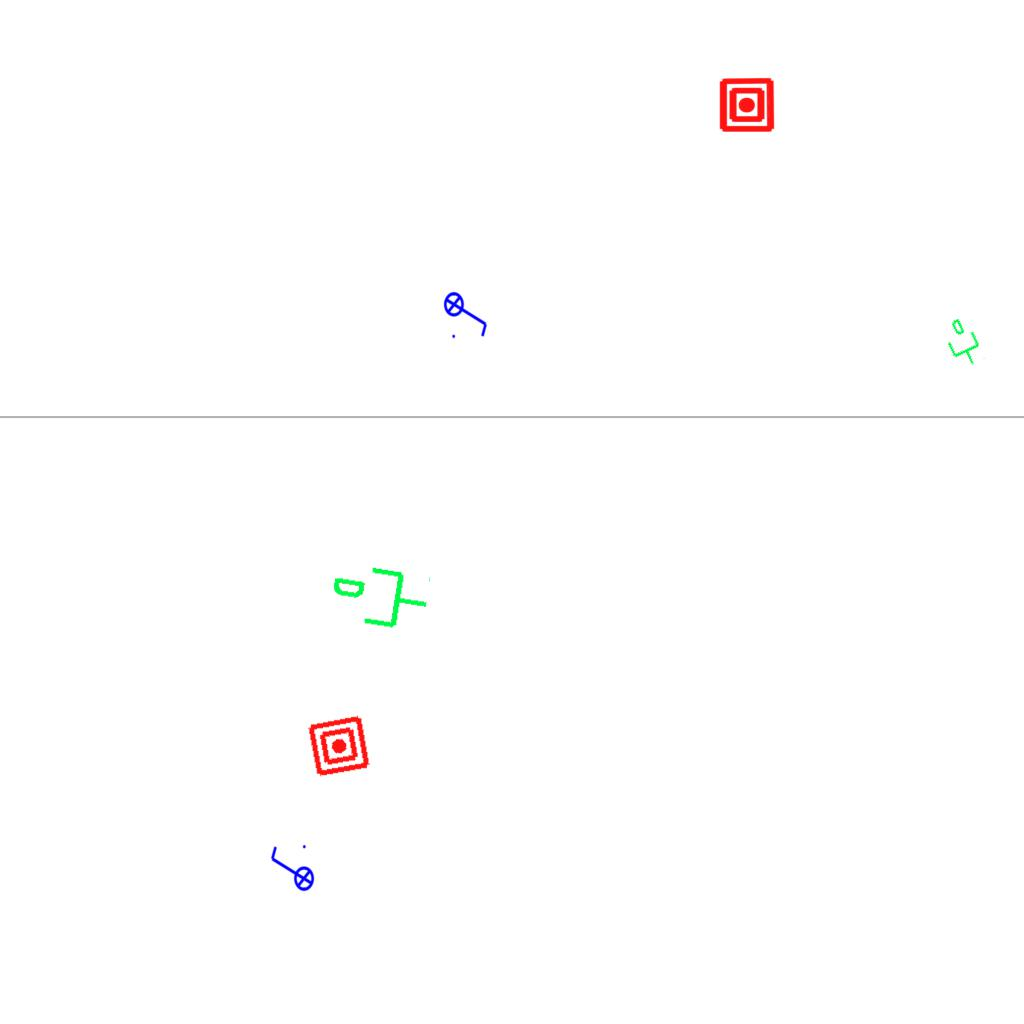Ausschalter_beleuchtet: (267, 842, 315, 898), (443, 285, 491, 341)
Datenanschluss_einfach: (324, 557, 435, 641), (936, 313, 988, 373)
NAM-Nichtautomatischer_Melder: (306, 713, 372, 779), (718, 77, 774, 133), (720, 77, 776, 133)
